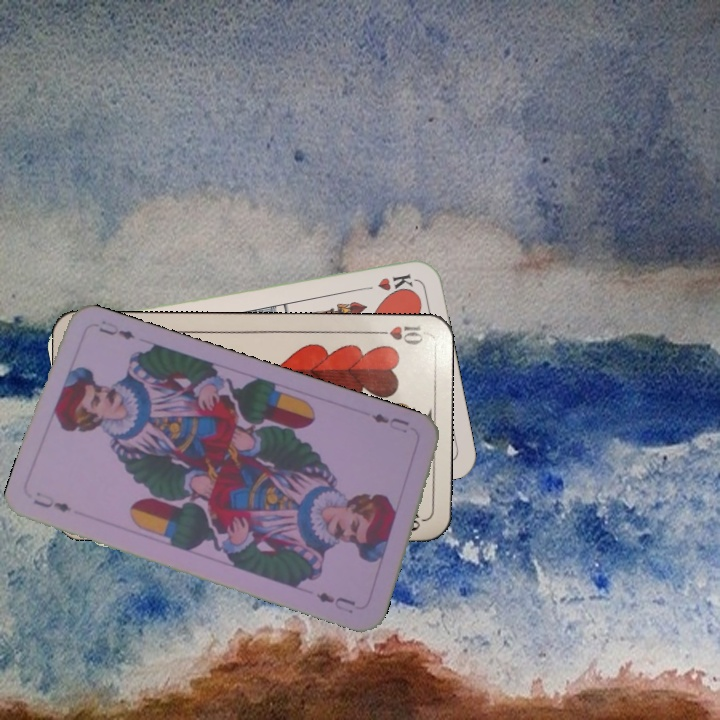EU: (368, 409, 412, 436), (29, 491, 74, 515)
H10: (368, 321, 427, 347)
HK: (356, 269, 415, 294)
